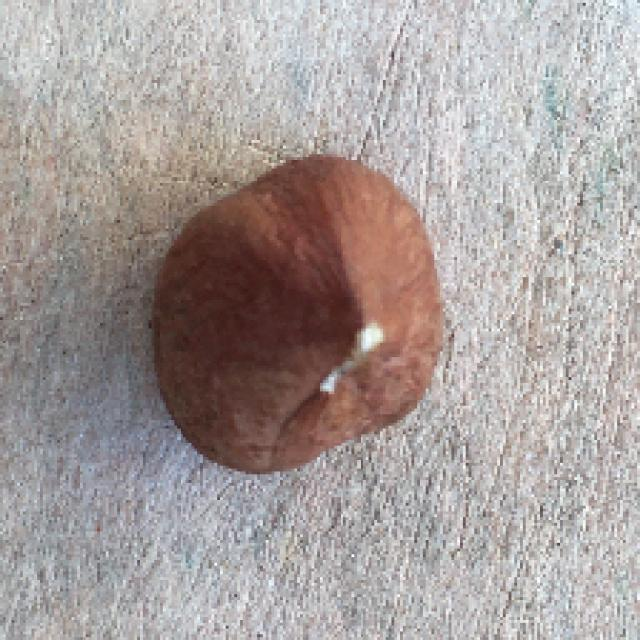hazelnut: (152, 149, 452, 465)
